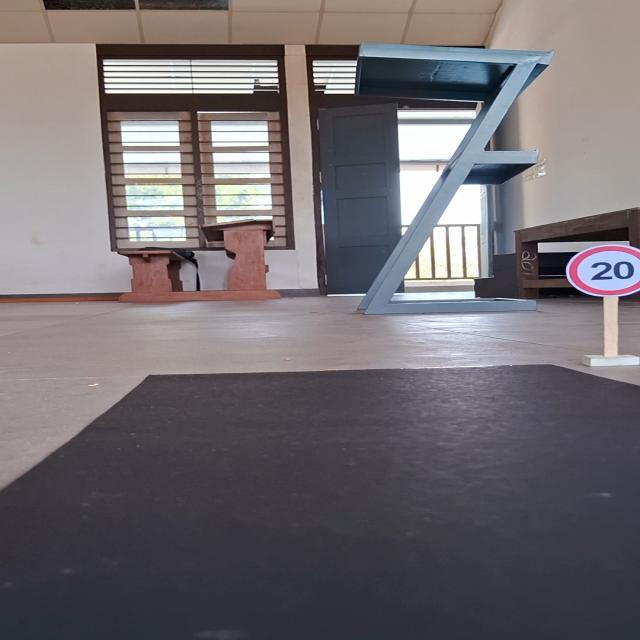Speed20: (562, 242, 640, 297)
